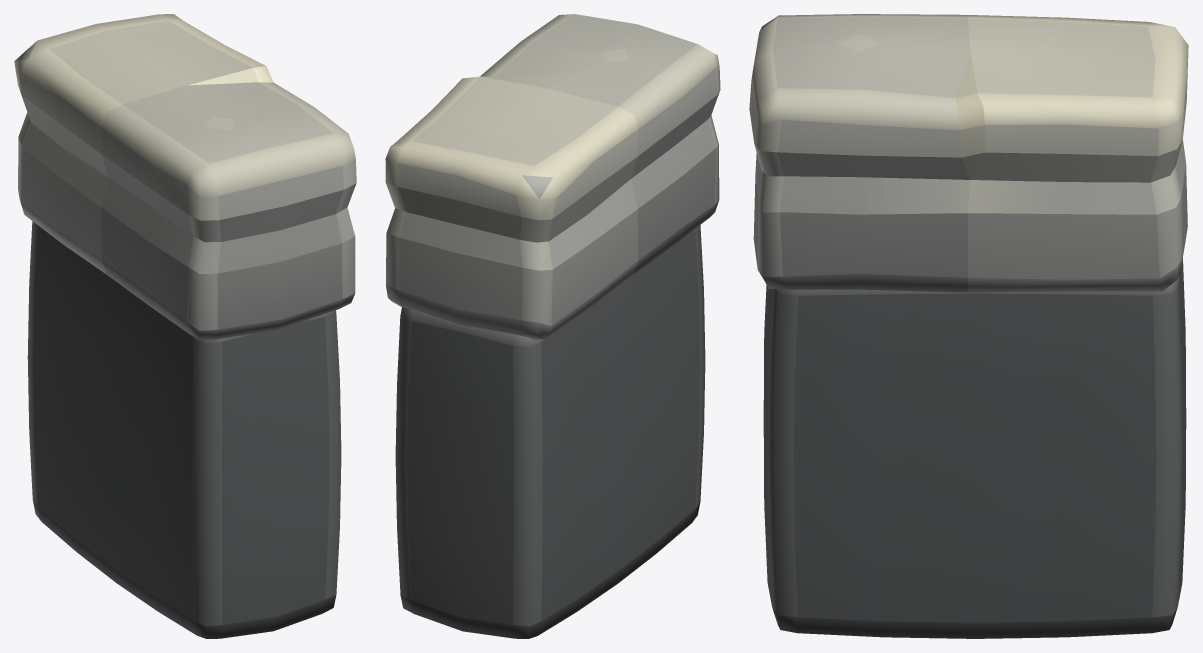
The model's file is ballustrade_stair_ornate3_LOD_setup.fbx.
3 renders of one model, left to right at view 1: azimuth 30°, elevation 25°; view 2: azimuth 150°, elevation 25°; view 3: azimuth 270°, elevation 25°, orthographic. The views are drawn at different scales.
Parts seen in each view (by area): view 1: ballustrade_stair_ornate3_LOD0; view 2: ballustrade_stair_ornate3_LOD0; view 3: ballustrade_stair_ornate3_LOD0.
Part boxes in pixels (box(x1,y1,x2,y2)): ballustrade_stair_ornate3_LOD0: box(14, 14, 356, 638); ballustrade_stair_ornate3_LOD0: box(385, 14, 720, 638); ballustrade_stair_ornate3_LOD0: box(749, 14, 1188, 638).
Size of what is drawn, in the model's own units: 59.32 by 159 by 113.
